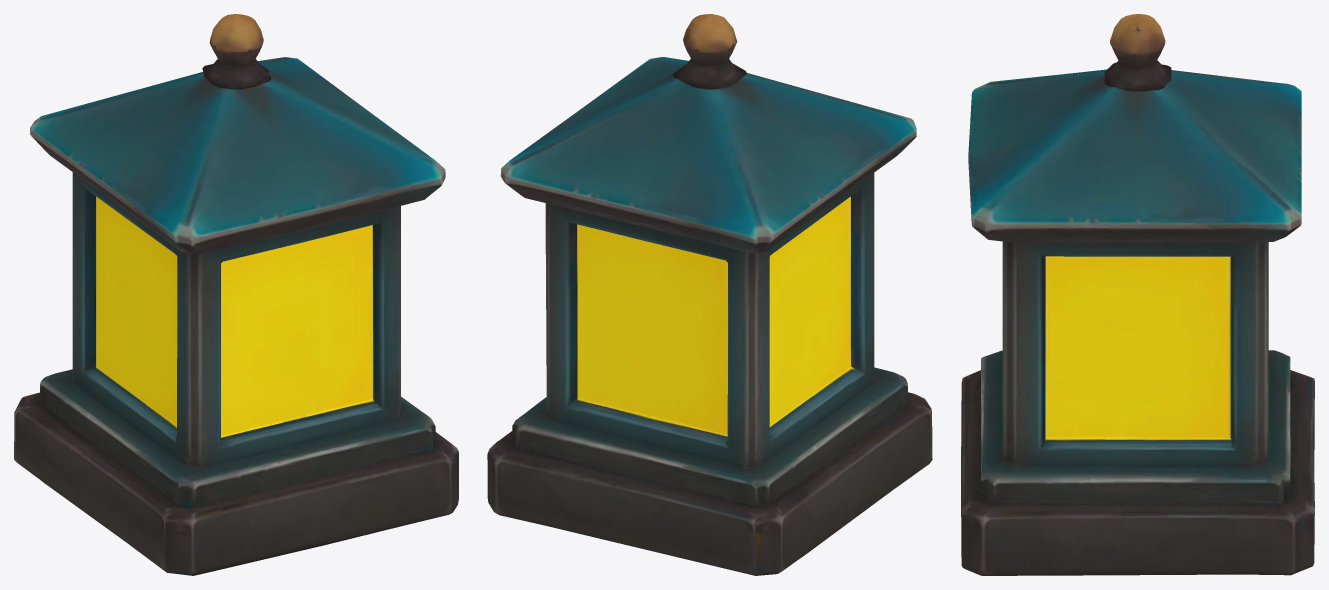
The model's file is SM_Tripo_ZhurongParapetLantern.glb.
The picture shows the model from 3 angles, left to right: view 1: azimuth 30°, elevation 25°; view 2: azimuth 150°, elevation 25°; view 3: azimuth 270°, elevation 25°; orthographic projection. The views are drawn at different scales.
Parts seen in each view (by area): view 1: SM_Tripo_ZhurongParapetLantern_LOD0; view 2: SM_Tripo_ZhurongParapetLantern_LOD0; view 3: SM_Tripo_ZhurongParapetLantern_LOD0.
Boxes of the visible parts, x1,y1,x2,y2 form: SM_Tripo_ZhurongParapetLantern_LOD0: [14, 14, 458, 575]; SM_Tripo_ZhurongParapetLantern_LOD0: [487, 14, 932, 575]; SM_Tripo_ZhurongParapetLantern_LOD0: [961, 14, 1314, 575].
Bounding box in the file's own units: 1.04 × 1.6 × 1.05.
1 material, 1 textured.
